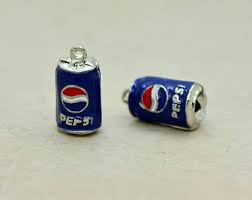can: (54, 33, 111, 150), (130, 76, 213, 136)
